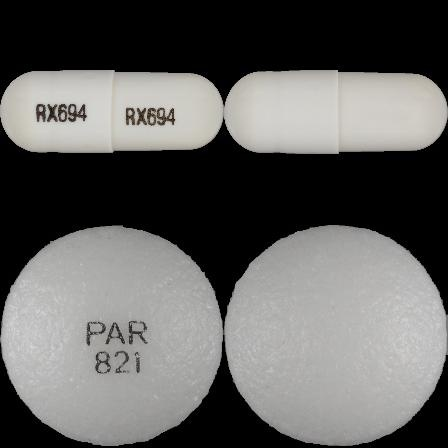21695-693: (0, 0, 224, 224)
